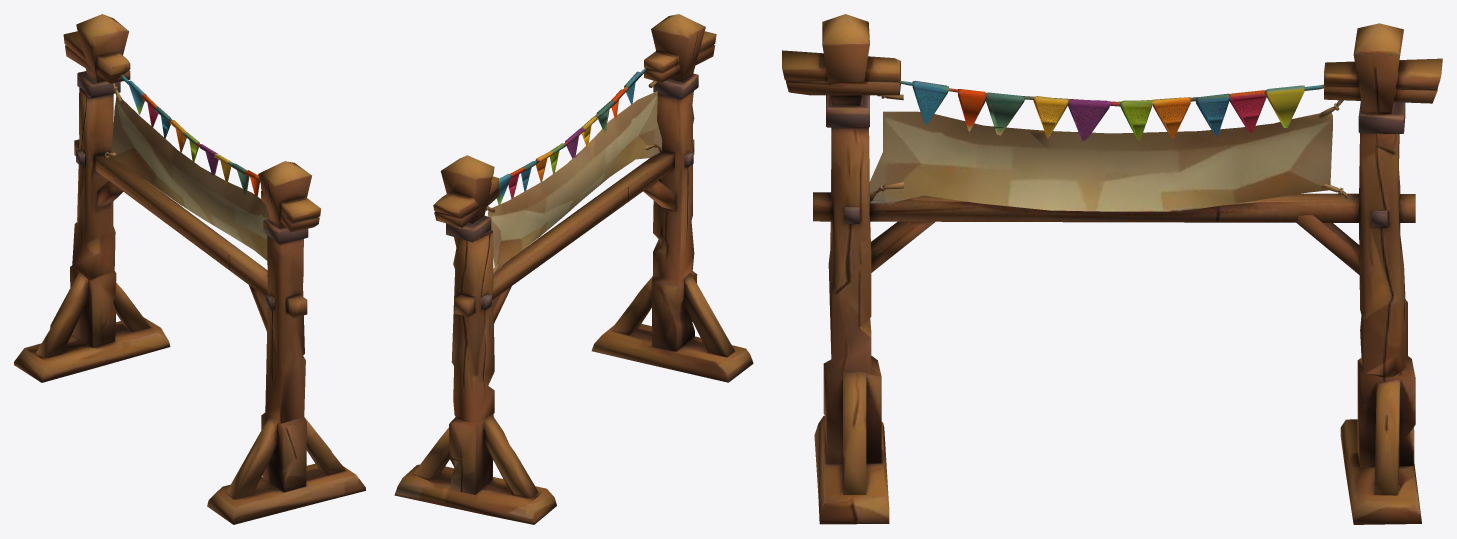
The model's file is course_arch.glb.
3 views of the same model, side by side, from view 1: azimuth 30°, elevation 25°; view 2: azimuth 150°, elevation 25°; view 3: azimuth 270°, elevation 25° (orthographic). The views are drawn at different scales.
Visible parts, largest first — view 1: tripo_node_200fe9f2-8ffc-48dc-8ff5-56d256423c8e; view 2: tripo_node_200fe9f2-8ffc-48dc-8ff5-56d256423c8e; view 3: tripo_node_200fe9f2-8ffc-48dc-8ff5-56d256423c8e.
Boxes of the visible parts, box(x1,y1,x2,y2) form: tripo_node_200fe9f2-8ffc-48dc-8ff5-56d256423c8e: box(14, 14, 365, 524); tripo_node_200fe9f2-8ffc-48dc-8ff5-56d256423c8e: box(394, 14, 753, 524); tripo_node_200fe9f2-8ffc-48dc-8ff5-56d256423c8e: box(782, 14, 1442, 524).
Size of the model in its own units: 1.88 by 4.5 by 5.82.
Materials: 1 (1 with a texture image).
